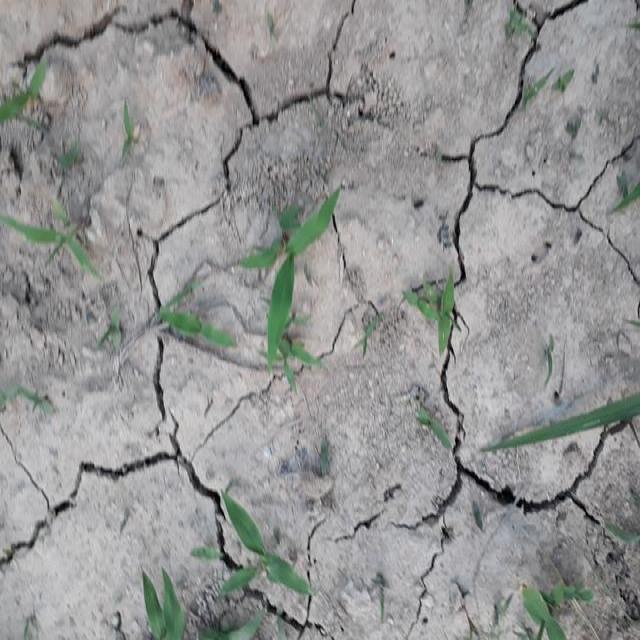weed: (250, 176, 329, 378)
